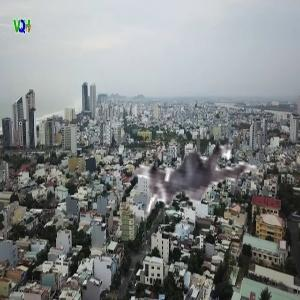drone: (125, 114, 269, 258)
